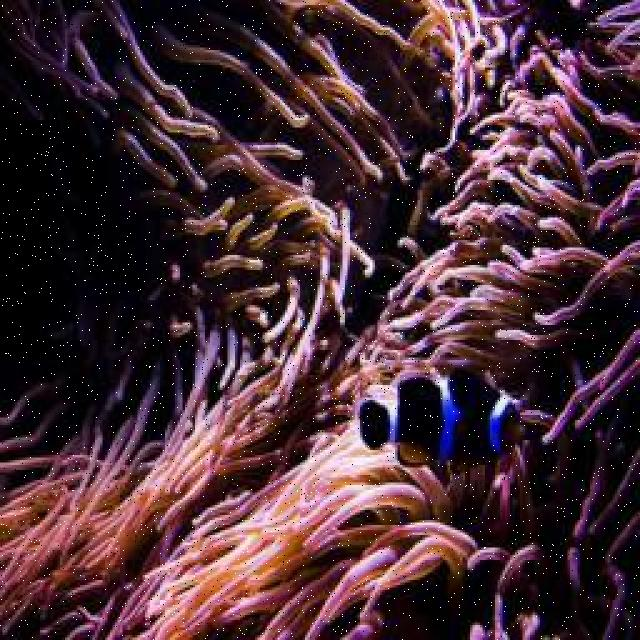fish: (361, 373, 527, 471)
